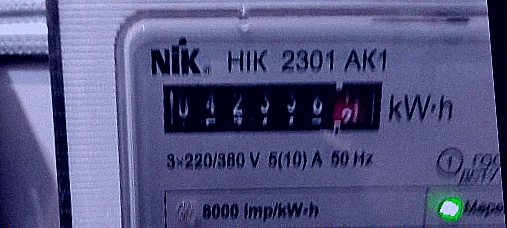0: (175, 90, 190, 120)
2: (227, 87, 247, 116)
3: (254, 85, 272, 116), (283, 84, 299, 113)
4: (201, 89, 219, 117)
6: (308, 88, 325, 116)
screen: (148, 57, 394, 157)
